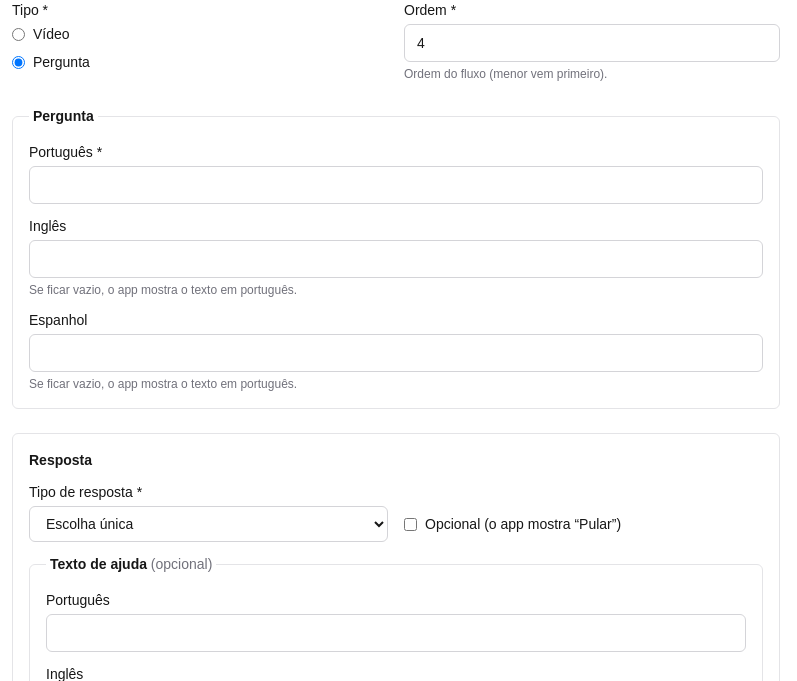
StepForm answer types (v2) › multiple choice hides the option jumps but keeps the option tips
Step 1. Select "Múltipla escolha" in the dropdown labelled "Tipo de resposta *" → [208, 524], box [29,506,388,542]
(page scrolled)
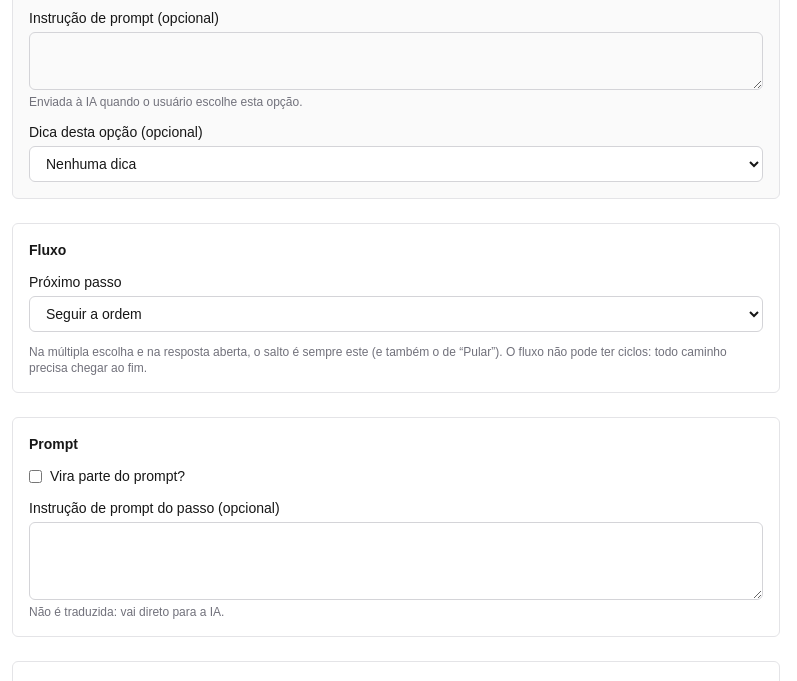
Expected: the dropdown labelled "Dica desta opção (opcional)" is shown, [29,146,763,182]
Expected: the text "o salto é sempre este" is shown, [29,345,727,375]
